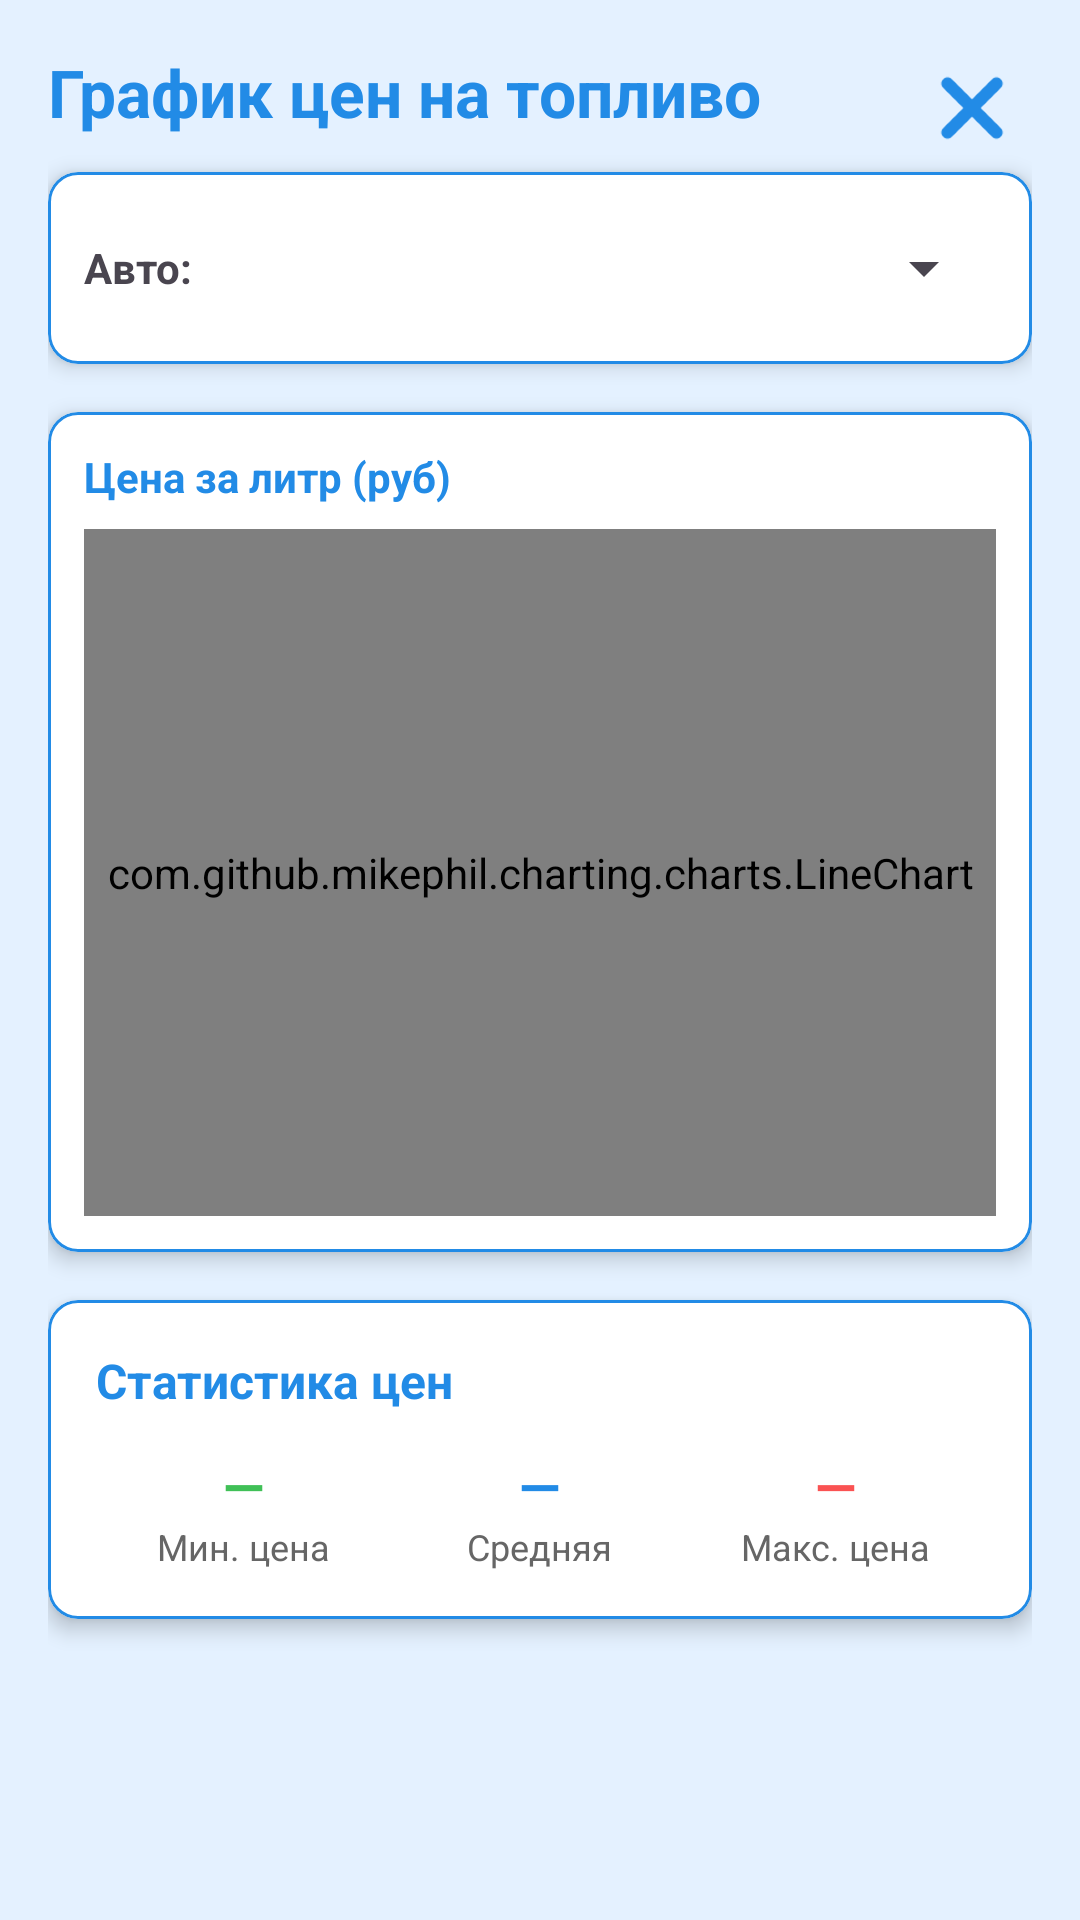

Named icons in this screenshot (1080×1920) and their centers, point (x, y):
cancel: point (972, 108)
